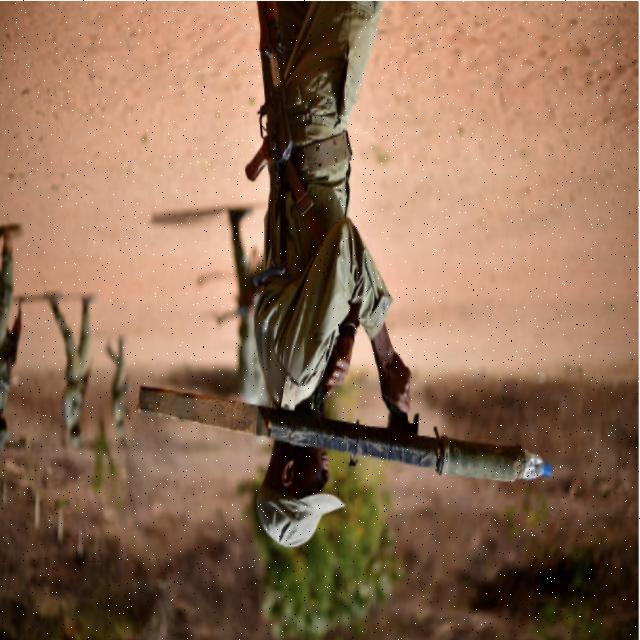bazooka: (137, 383, 559, 492)
